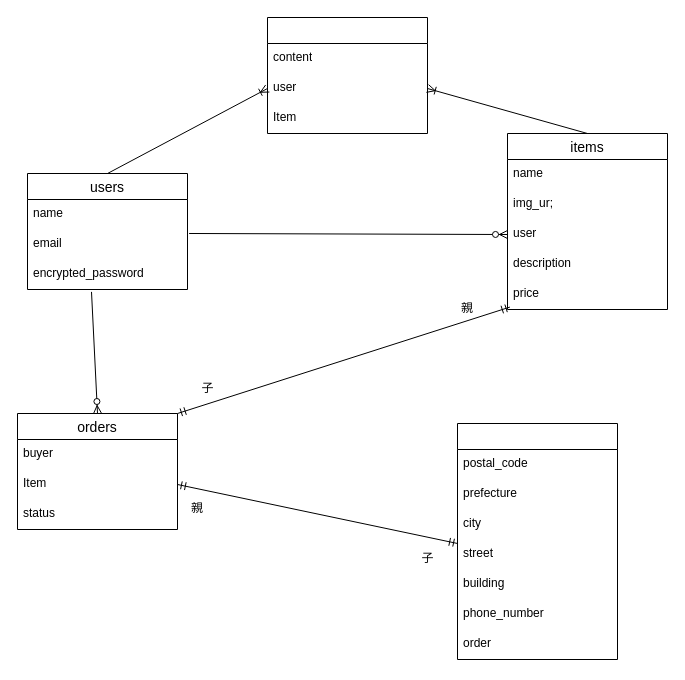
The diagram is 685 pixels wide and 680 high, and some of its shapes have lost their labels. Each missing label, with the box of its shape:
addresses: (456, 422, 618, 660)
comments: (266, 16, 428, 134)
